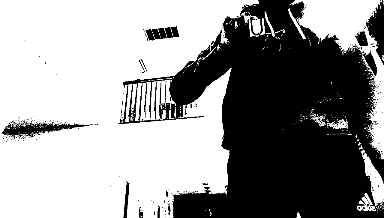U: (249, 19, 264, 36)
